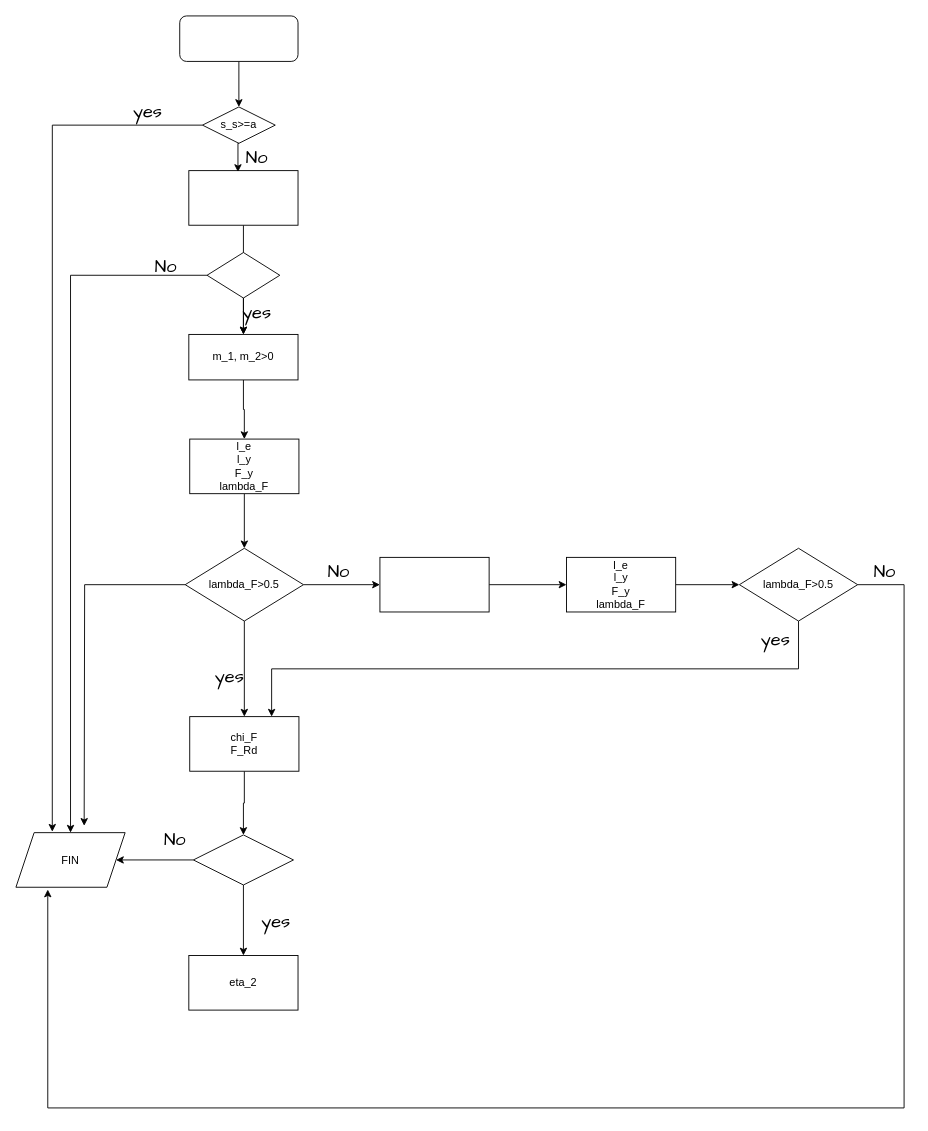
The diagram is 928 pixels wide and 1131 high, and some of its shapes have lost their labels. The shapes that lost their labels are listed below. From the top down, each one's centre as x and y in pixels, then its label:
At (x=238, y=38): "input datas".
At (x=243, y=197): "k_F F_cr".
At (x=243, y=275): "F_cr>F_Ed".
At (x=434, y=584): "m2=0".
At (x=242, y=859): "F_Rd>F_Ed".
